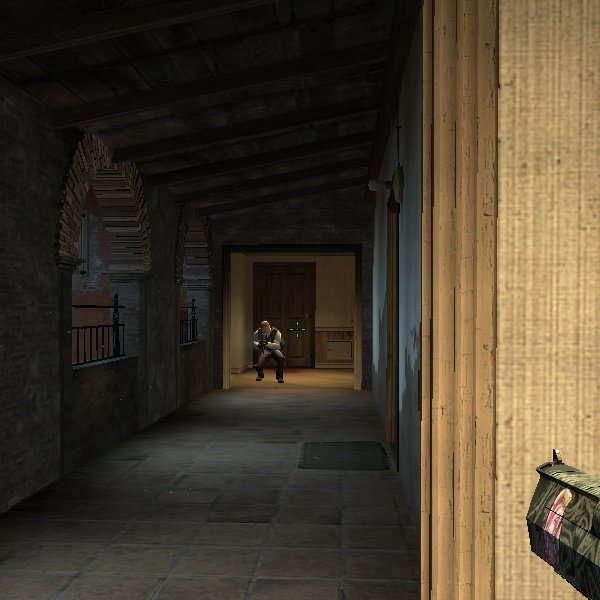t_body: (247, 314, 289, 385)
